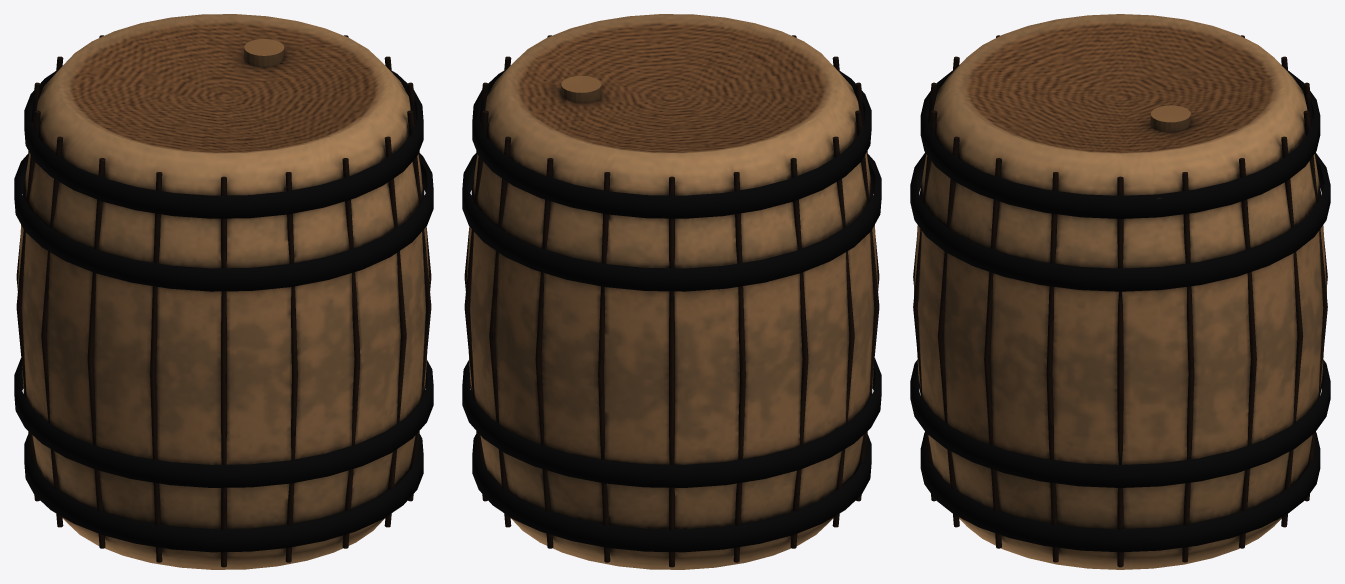
File: cenario_barril_v2.glb
The picture shows the model from 3 angles, left to right: view 1: azimuth 30°, elevation 25°; view 2: azimuth 150°, elevation 25°; view 3: azimuth 270°, elevation 25°; orthographic projection.
Visible parts, largest first — view 1: cenario_barril; view 2: cenario_barril; view 3: cenario_barril.
Part boxes in pixels (x1=…): cenario_barril: x1=14, y1=14, x2=433, y2=569; cenario_barril: x1=462, y1=14, x2=881, y2=569; cenario_barril: x1=910, y1=14, x2=1330, y2=569.
Bounding box in the file's own units: 0.8354 × 0.915 × 0.834.
Materials: 1 (1 with a texture image).
